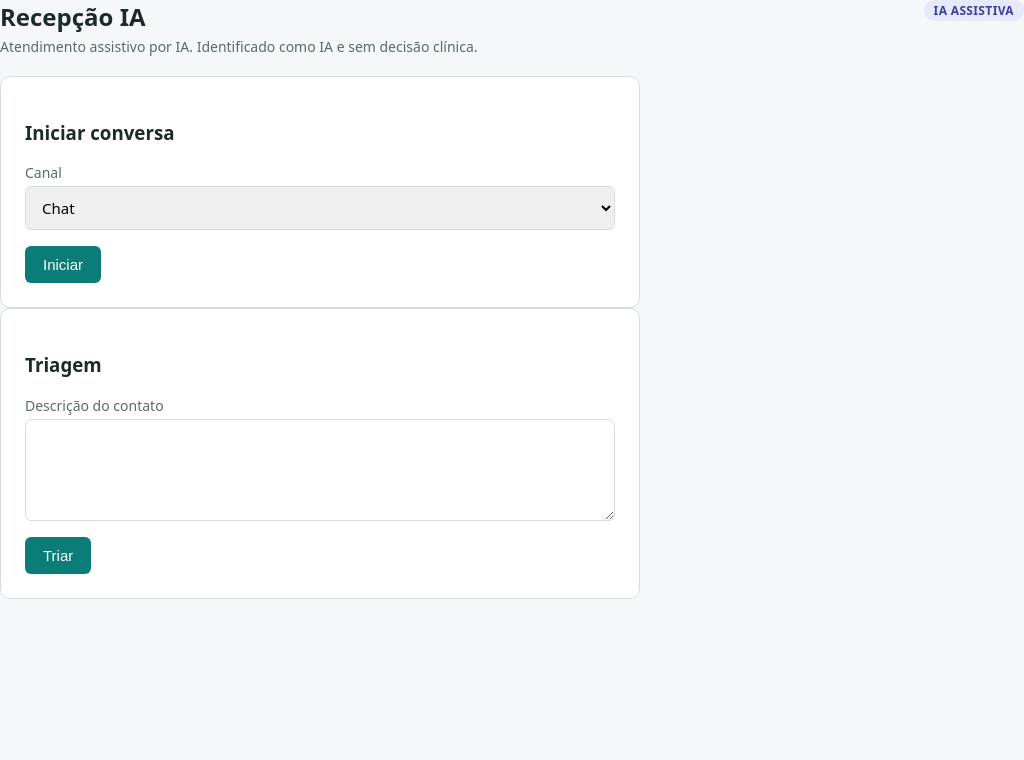
Test: AiFrontDeskPage › inicia conversa e responde mensagem da IA
Click the button "Iniciar": {"x": 63, "y": 265} [25,246,101,283]
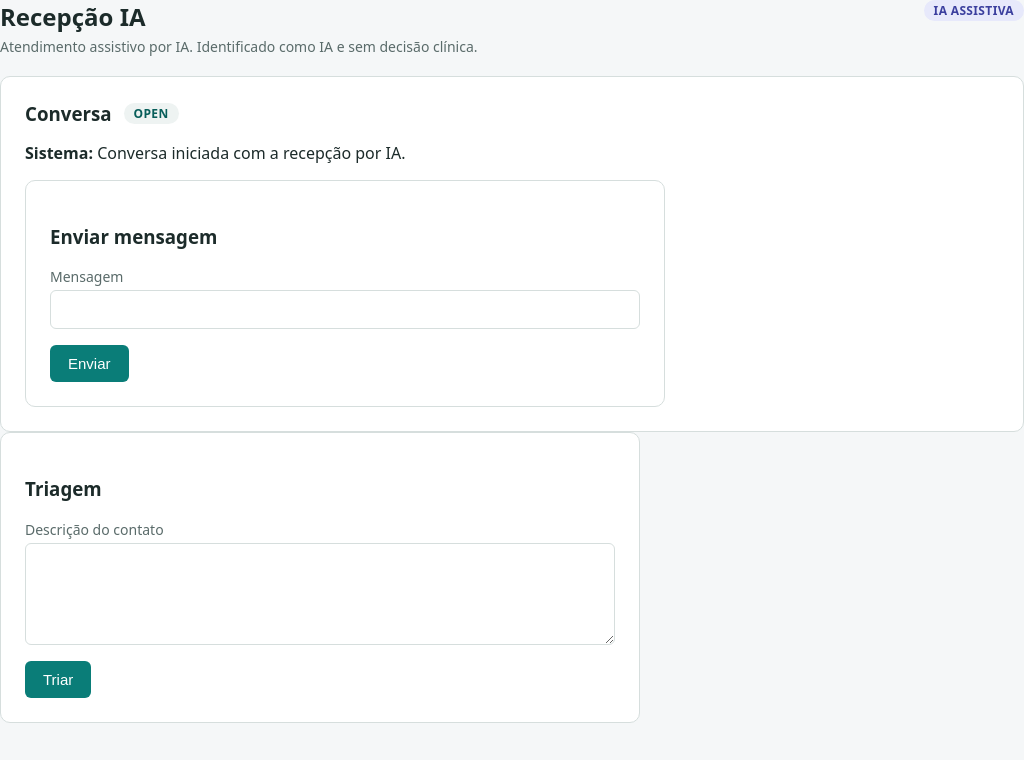
Result: the element labelled "Conversa" is shown at [0,76,1023,432]
In the field labelled "Mensagem": {"x": 345, "y": 310} [50,290,640,329], type "Quero agendar"
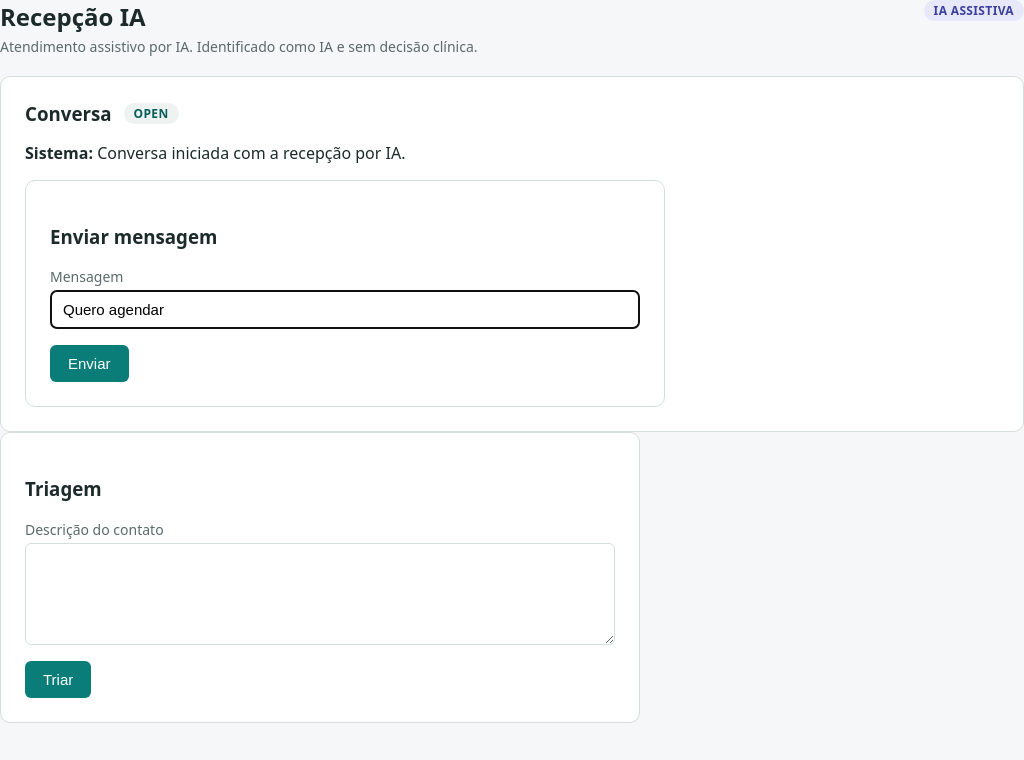
Click the button "Enviar": {"x": 89, "y": 364} [50,345,128,382]
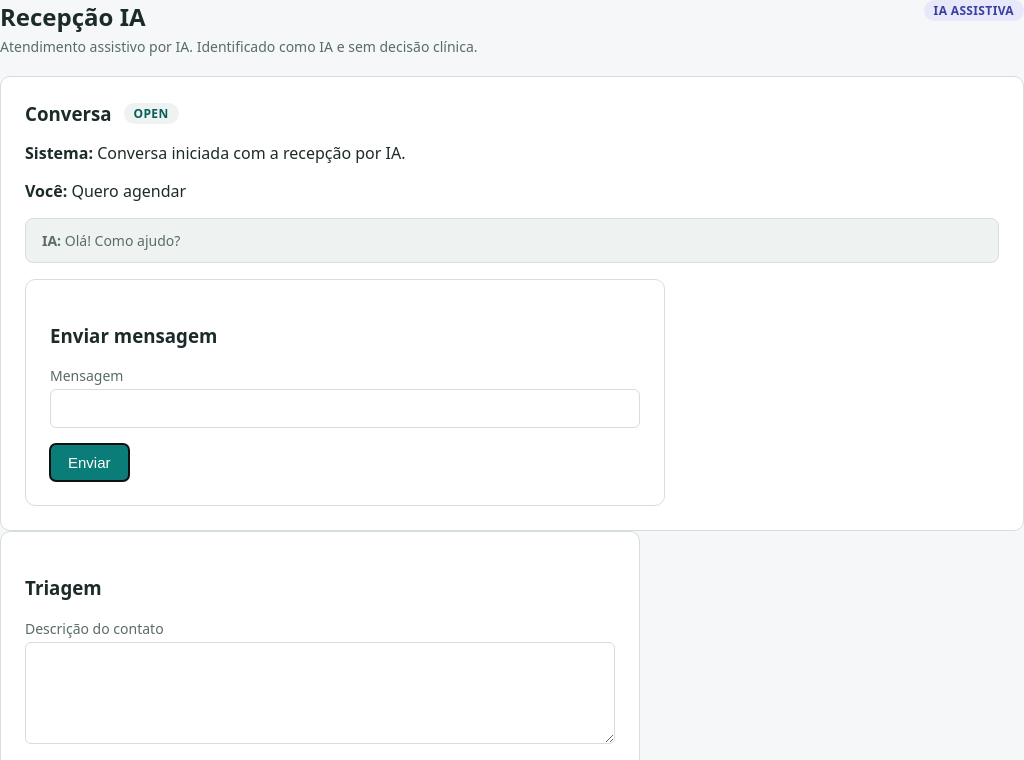
Result: the text "Olá! Como ajudo?" is shown at [65,231,180,250]
